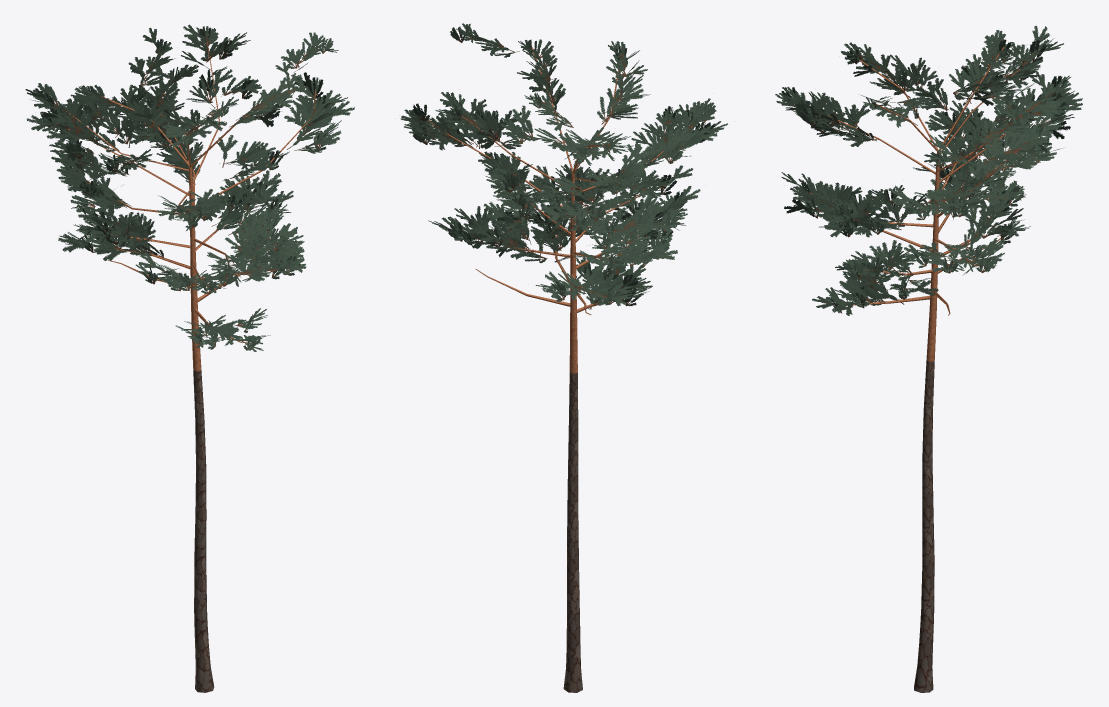
Rendered from pine_a_LOD1.glb.
3 renders of one model, left to right at view 1: azimuth 30°, elevation 25°; view 2: azimuth 150°, elevation 25°; view 3: azimuth 270°, elevation 25°, orthographic. The views are drawn at different scales.
Parts seen in each view (by area): view 1: Pine_A_LOD1_Foliage, Pine_A_LOD1_Bark; view 2: Pine_A_LOD1_Foliage, Pine_A_LOD1_Bark; view 3: Pine_A_LOD1_Foliage, Pine_A_LOD1_Bark.
Boxes of the visible parts, x1=… form: Pine_A_LOD1_Foliage: x1=25, y1=24, x2=354, y2=351; Pine_A_LOD1_Bark: x1=54, y1=34, x2=315, y2=692; Pine_A_LOD1_Foliage: x1=400, y1=23, x2=727, y2=309; Pine_A_LOD1_Bark: x1=425, y1=47, x2=706, y2=692; Pine_A_LOD1_Foliage: x1=775, y1=26, x2=1082, y2=315; Pine_A_LOD1_Bark: x1=809, y1=47, x2=1041, y2=692.
Bounding box in the file's own units: 10.27 × 21.04 × 9.6.
2 materials, 2 textured.
